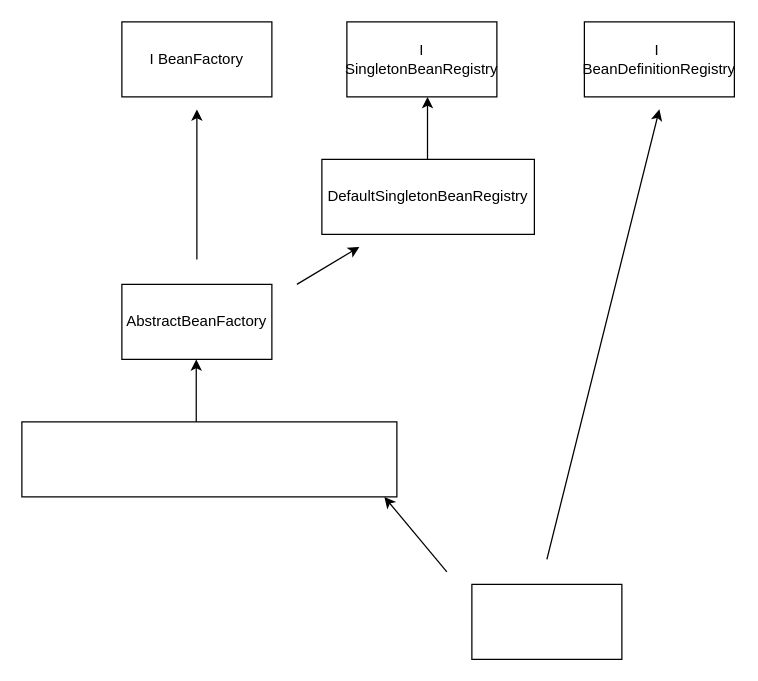
Some shapes in this 758 by 681 pixel diagram are drawn without their labels. Each missing label, with the box of its shape:
AbstractAutowiredCapableBeanFactory: (21, 421, 397, 497)
DefaultListableBeanFactory: (471, 583, 622, 659)
